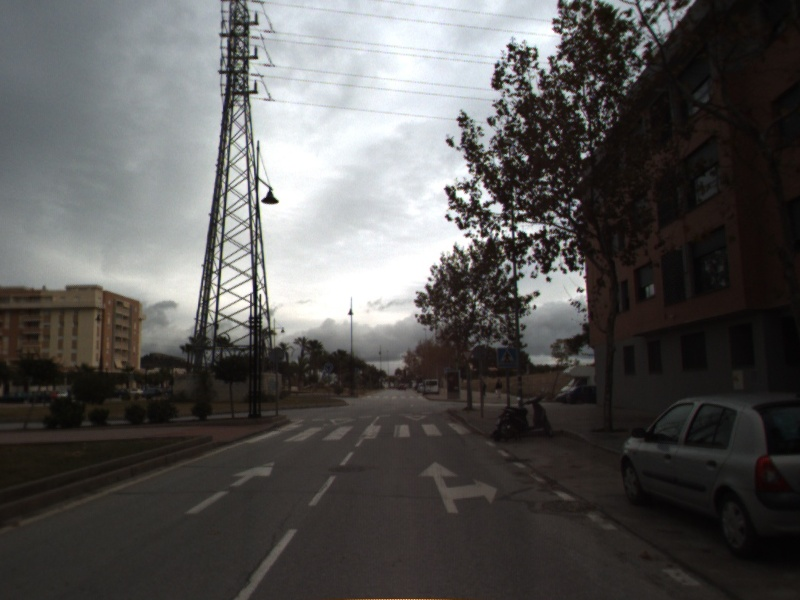STRAIGHT: (182, 458, 277, 516)
STRAIGHT_RIGHT: (415, 459, 499, 515)
